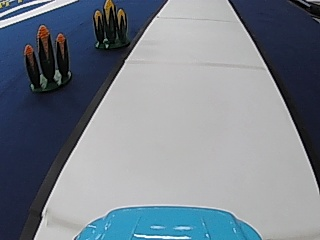corn: (20, 25, 79, 96), (89, 0, 134, 52)
